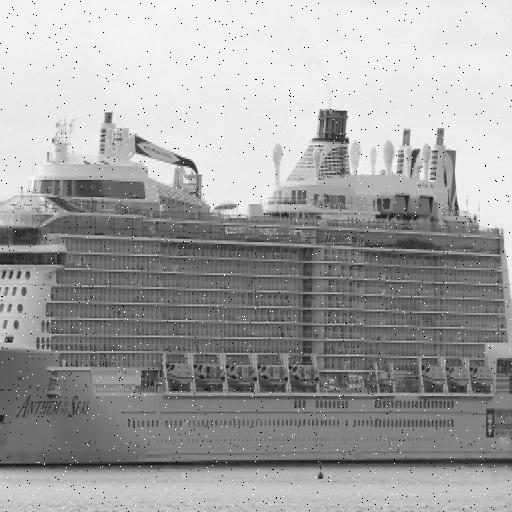cruises: (1, 96, 512, 477)
